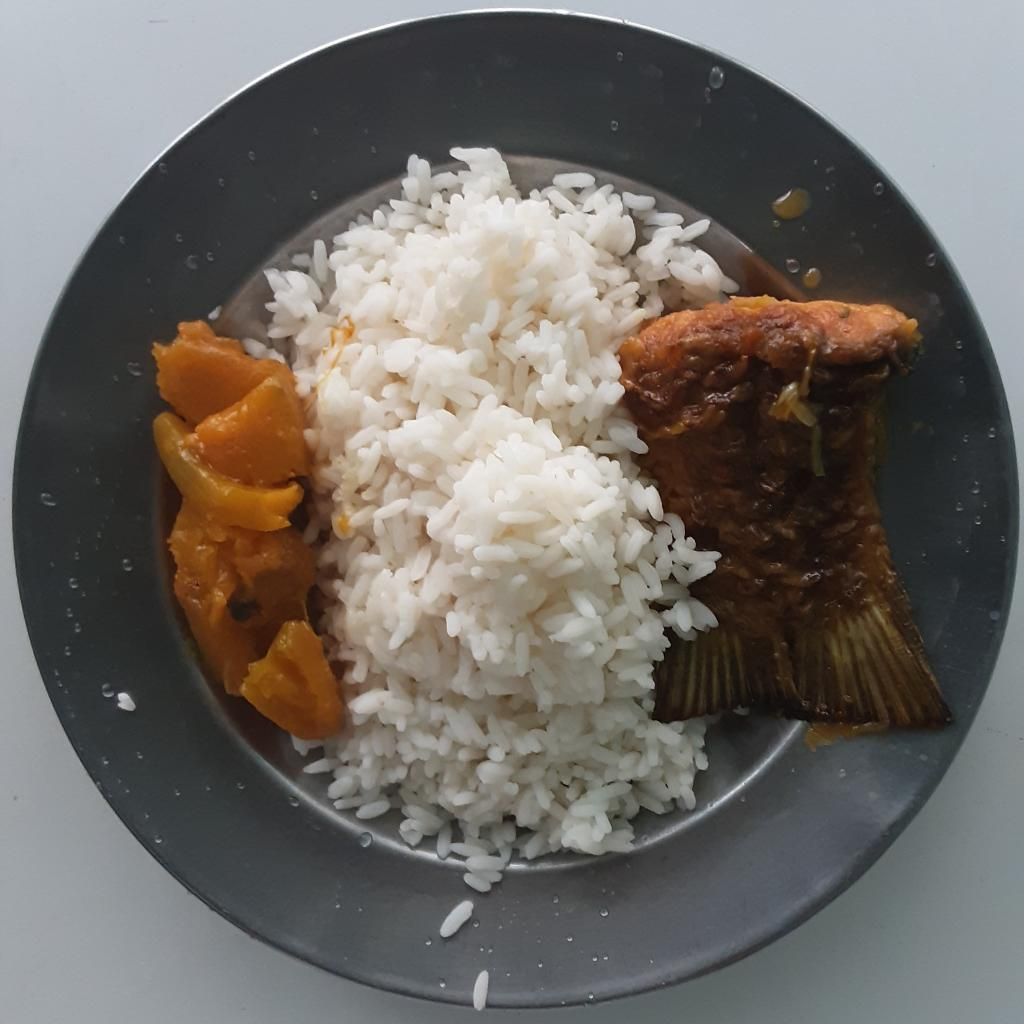fish: (619, 297, 952, 733)
kumra-vaji: (146, 320, 349, 738)
rice: (227, 138, 734, 931)
